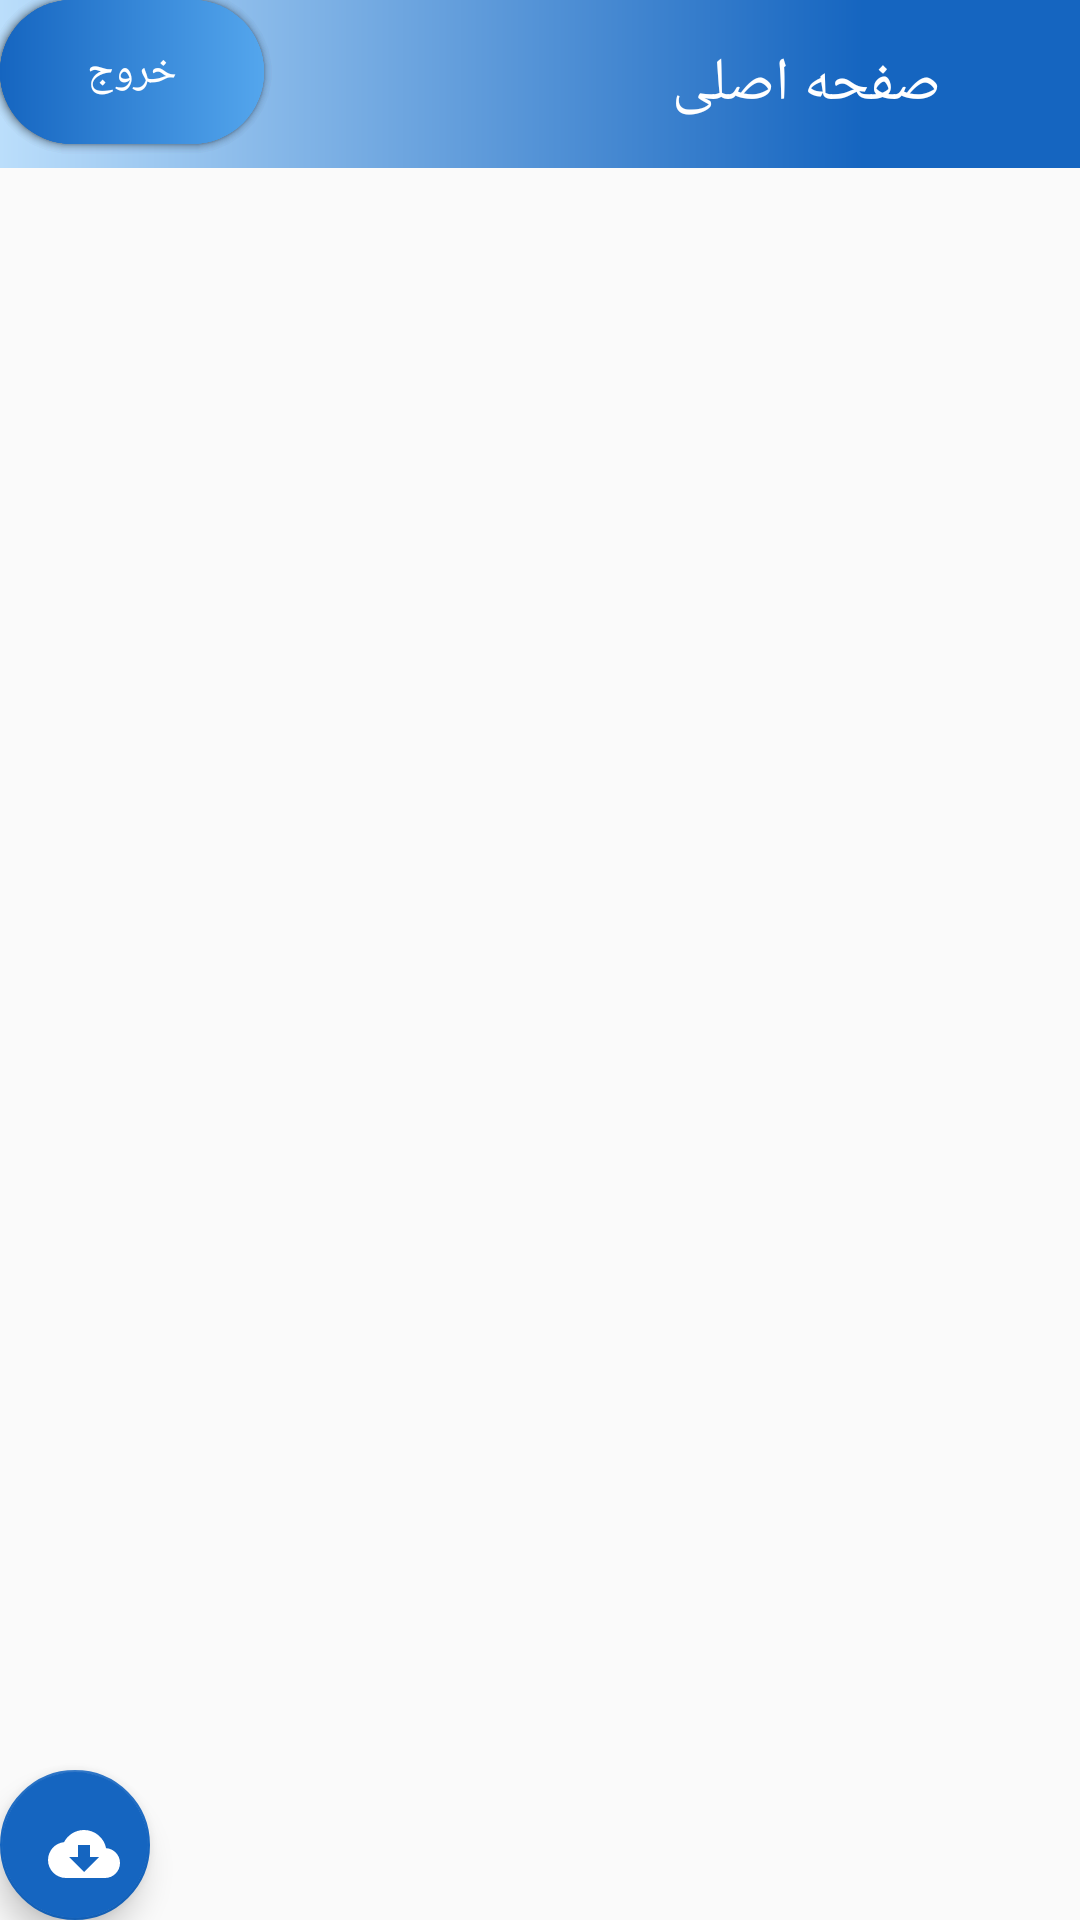

Icons on this 1080px×1920px Android screen, each with its box as BBox(x1, y1, x2, y2):
cloud download: BBox(0, 1770, 150, 1920)
